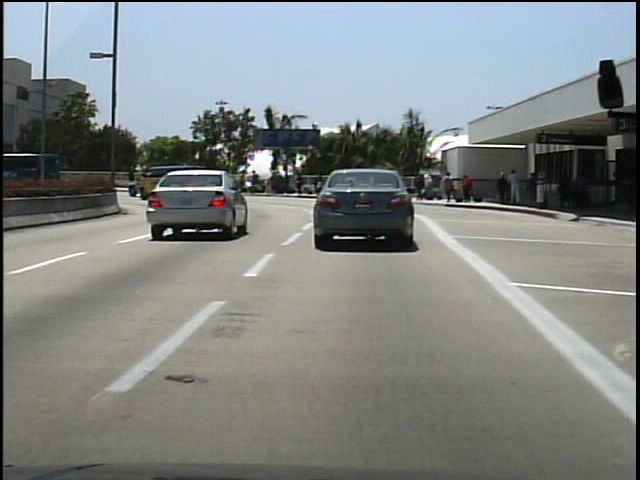person: (573, 168, 593, 217), (555, 164, 573, 212), (507, 166, 524, 207), (524, 169, 541, 208), (460, 172, 477, 208), (495, 170, 511, 206), (444, 169, 458, 203), (413, 170, 427, 202), (191, 169, 207, 194), (127, 162, 140, 183)
